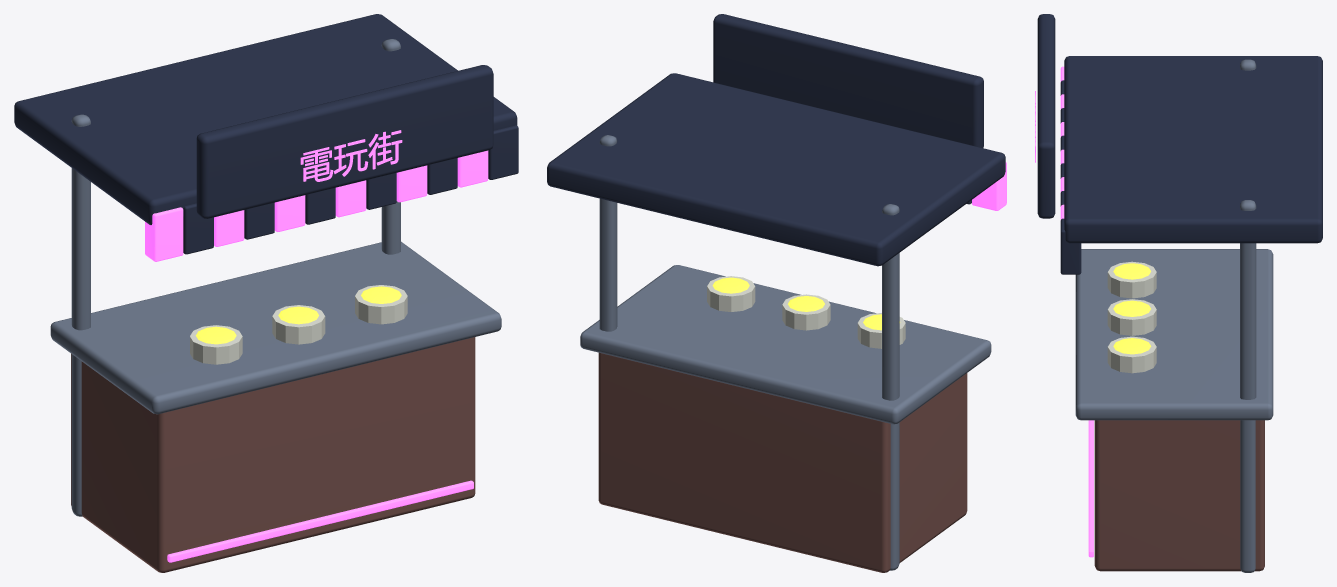
File: stall_arcade.glb
3 renders of one model, left to right at view 1: azimuth 30°, elevation 25°; view 2: azimuth 150°, elevation 25°; view 3: azimuth 270°, elevation 25°, orthographic. The views are drawn at different scales.
Parts seen in each view (by area): view 1: Counter.002, Countertop.002, Roof.002, Sign backing.002, Post.004, Kick neon.002, Sign_電玩街, Awning stripe.024, Awning stripe.035, Bowl.007, Bowl.006, Bowl.008 (+11 smaller); view 2: Counter.002, Roof.002, Countertop.002, Sign backing.002, Post.004, Post.005, Bowl.007, Bowl.008, Awning stripe.024, Bowl.006; view 3: Roof.002, Countertop.002, Counter.002, Post.005, Sign backing.002, Bowl.006, Bowl.008, Bowl.007, Awning stripe.035, Kick neon.002, Soup.007, Soup.008 (+1 smaller).
Part boxes in pixels (bbox=[...]): Counter.002: bbox=[71, 337, 475, 572]; Countertop.002: bbox=[50, 241, 501, 414]; Roof.002: bbox=[14, 14, 517, 224]; Sign backing.002: bbox=[196, 65, 493, 218]; Post.004: bbox=[71, 114, 90, 516]; Kick neon.002: bbox=[167, 480, 473, 562]; Sign_電玩街: bbox=[300, 130, 402, 181]; Awning stripe.024: bbox=[145, 207, 183, 261]; Awning stripe.035: bbox=[488, 125, 518, 179]; Bowl.007: bbox=[272, 305, 325, 344]; Bowl.006: bbox=[190, 325, 242, 364]; Bowl.008: bbox=[355, 285, 407, 324]; Counter.002: bbox=[598, 352, 967, 572]; Roof.002: bbox=[547, 73, 1005, 266]; Countertop.002: bbox=[580, 265, 991, 424]; Sign backing.002: bbox=[713, 14, 983, 147]; Post.004: bbox=[882, 204, 899, 570]; Post.005: bbox=[599, 135, 617, 331]; Bowl.007: bbox=[782, 294, 830, 330]; Bowl.008: bbox=[707, 276, 755, 311]; Awning stripe.024: bbox=[972, 162, 1006, 210]; Bowl.006: bbox=[857, 313, 905, 348]; Roof.002: bbox=[1064, 56, 1322, 243]; Countertop.002: bbox=[1075, 249, 1273, 420]; Counter.002: bbox=[1094, 420, 1264, 571]; Post.005: bbox=[1240, 200, 1256, 572]; Sign backing.002: bbox=[1037, 14, 1055, 218]; Bowl.006: bbox=[1107, 261, 1156, 298]; Bowl.008: bbox=[1107, 336, 1156, 373]; Bowl.007: bbox=[1107, 299, 1156, 335]; Awning stripe.035: bbox=[1060, 218, 1081, 274]; Kick neon.002: bbox=[1088, 420, 1093, 557]; Soup.007: bbox=[1113, 300, 1150, 316]; Soup.008: bbox=[1113, 338, 1151, 354].
Bounding box in the file's own units: 2.9 × 3.43 × 2.11.
